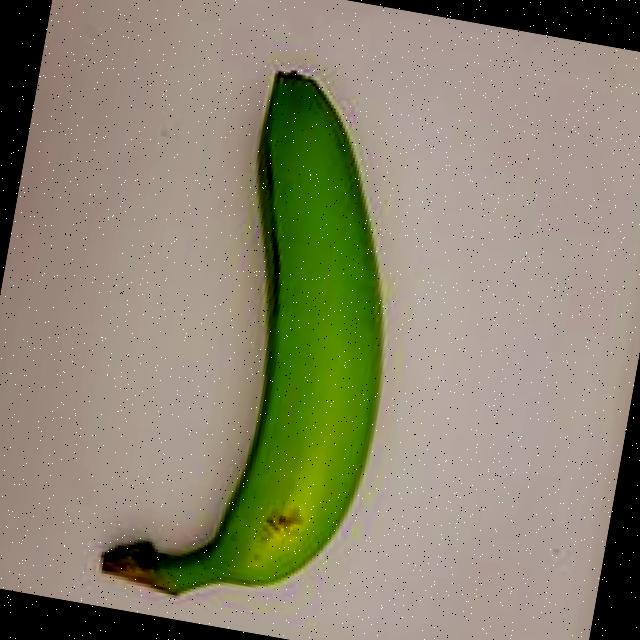Unripe: (30, 23, 469, 640)
